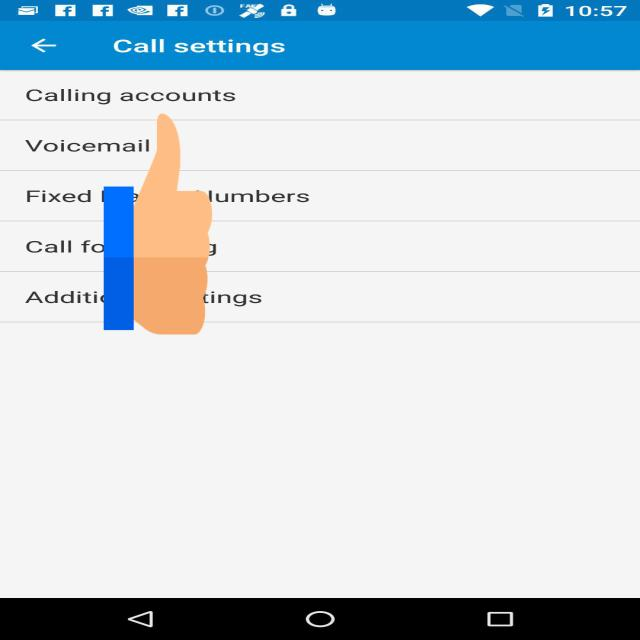privacy zuckering: (104, 108, 212, 340)
